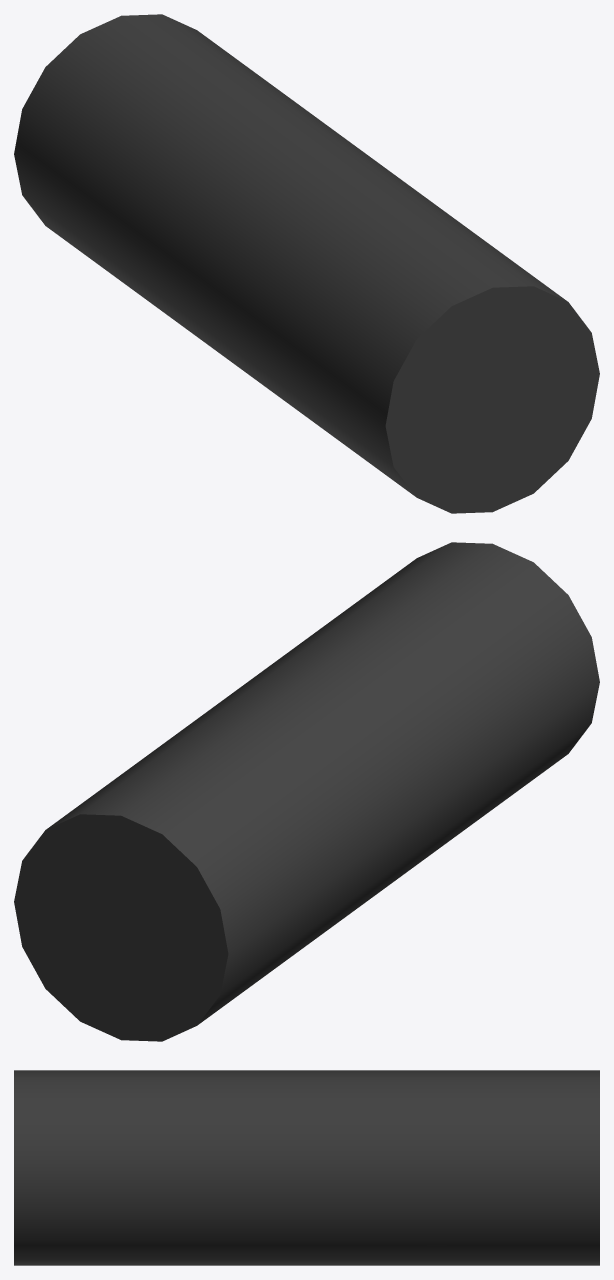
Rendered from StraightPipe.fbx.
The picture shows the model from 3 angles, top to bottom: view 1: azimuth 30°, elevation 25°; view 2: azimuth 150°, elevation 25°; view 3: azimuth 270°, elevation 25°; orthographic projection. The views are drawn at different scales.
Parts seen in each view (by area): view 1: Pipe; view 2: Pipe; view 3: Pipe.
Part boxes in pixels (<box>): Pipe: <box>14,14,599,513</box>; Pipe: <box>14,542,599,1041</box>; Pipe: <box>14,1070,599,1265</box>.
Size of the model in its own units: 200 by 200 by 600.
